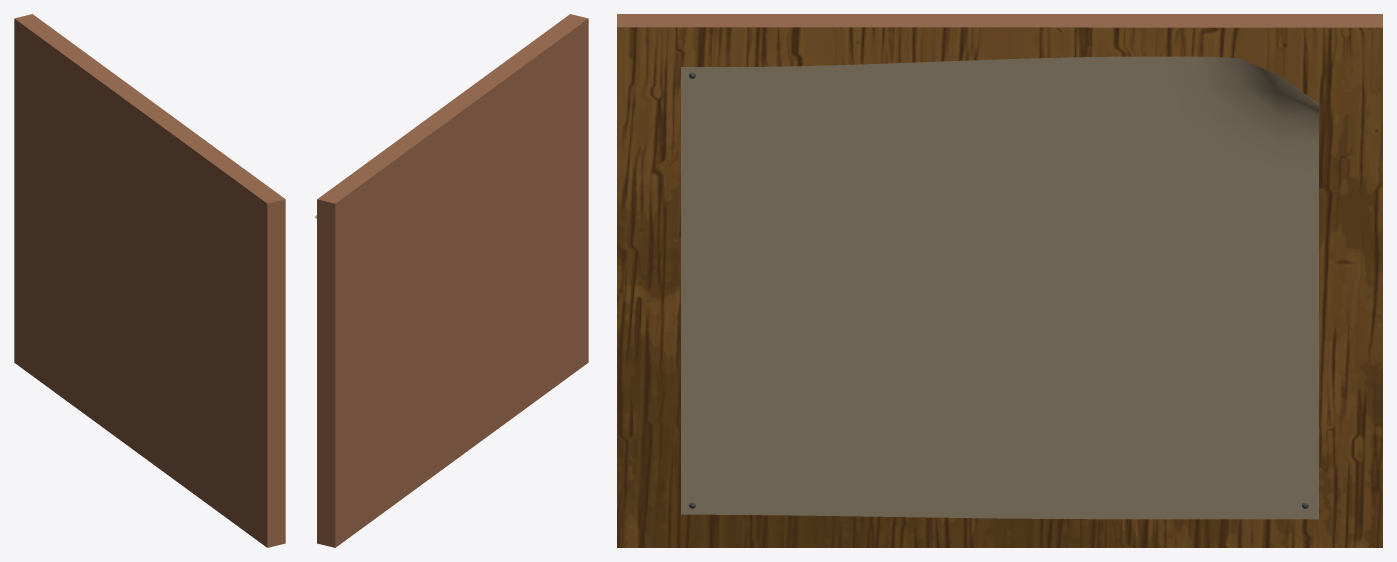
Rendered from Sign.glb.
3 views of the same model, side by side, from view 1: azimuth 30°, elevation 25°; view 2: azimuth 150°, elevation 25°; view 3: azimuth 270°, elevation 25° (orthographic). The views are drawn at different scales.
Visible parts, largest first — view 1: Sign; view 2: Sign; view 3: Sign.
Boxes of the visible parts, left/top/right/bottom form: Sign: left=14, top=14, right=285, bottom=547; Sign: left=314, top=14, right=588, bottom=547; Sign: left=617, top=14, right=1382, bottom=547.
Bounding box in the file's own units: 0.2301 × 1.8 × 2.4.
4 materials, 1 textured.
